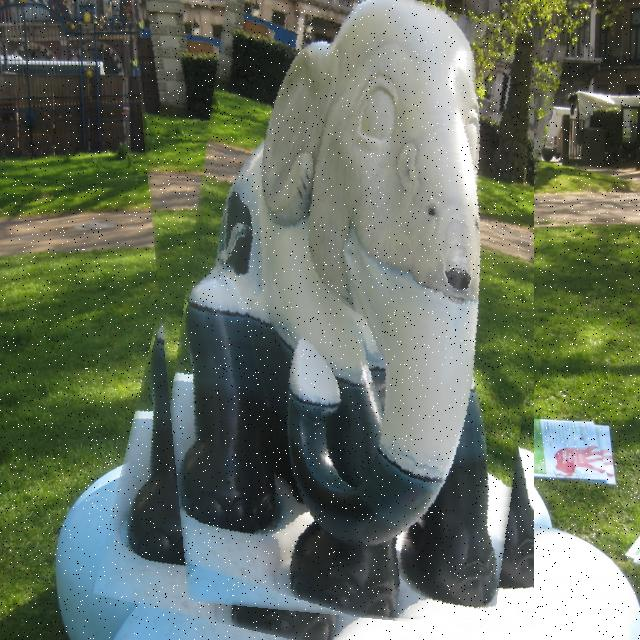elephant: (127, 0, 534, 640)
